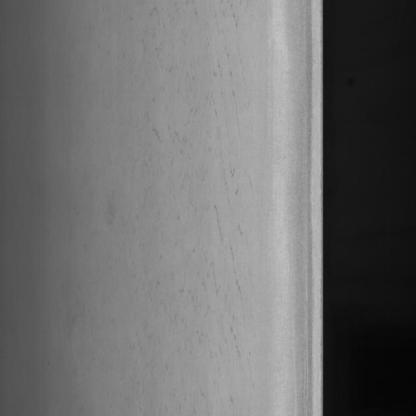silk_spot: (162, 8, 250, 370)
